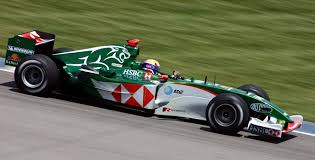f1_car: (4, 27, 308, 146)
